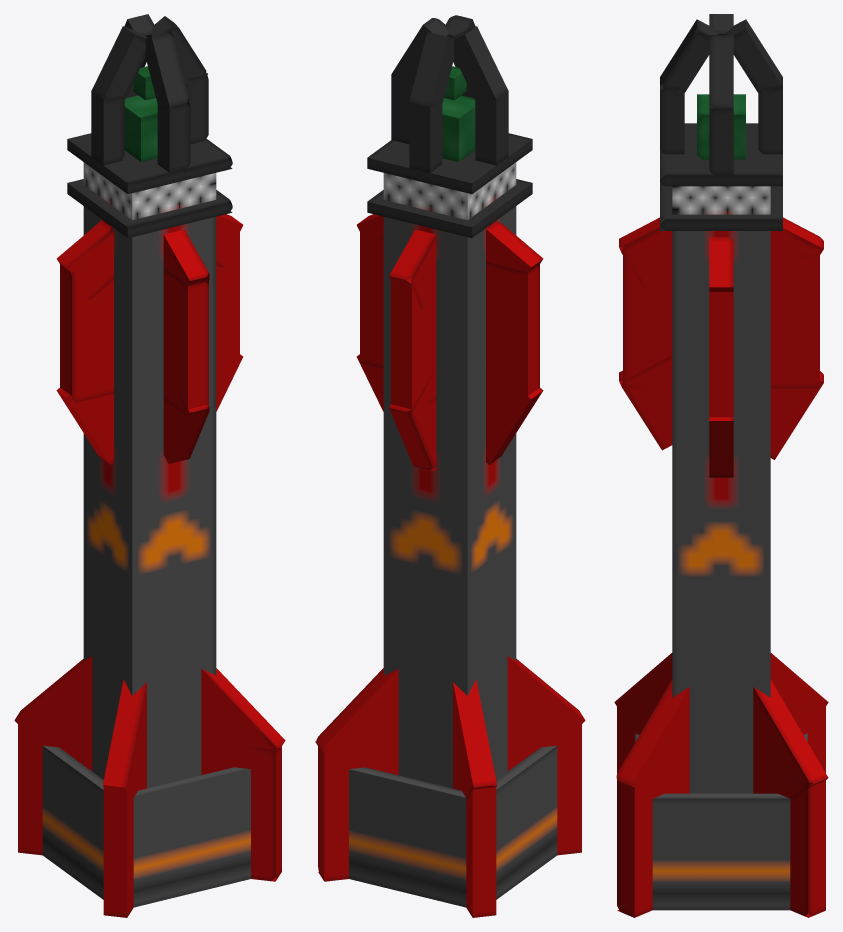
Rendered from missile_rejuvenation.obj.
The picture shows the model from 3 angles, left to right: view 1: azimuth 30°, elevation 25°; view 2: azimuth 150°, elevation 25°; view 3: azimuth 270°, elevation 25°; orthographic projection.
Parts seen in each view (by area): view 1: MAIN_MODULE, WING_B1, WING_BA1, WING_TBD2, WING_BA2, WING_B4, WING_TAC2, WING_BB1, T_SUPPORT_2, WING_BB2, T_SUPPORT_1, WING_TB3 (+12 smaller); view 2: MAIN_MODULE, WING_B2, WING_BB1, WING_TBD2, WING_BB2, WING_B4, WING_TAC2, T_SUPPORT_2, WING_BA1, WING_BA2, T_SUPPORT_1, WING_TB1 (+11 smaller); view 3: MAIN_MODULE, WING_B3, WING_TAC2, WING_BB1, WING_BA1, WING_BB2, WING_BA2, T_SUPPORT_2, WING_TBD2, WING_TA1, T_SUPPORT_1, WING_TC3 (+11 smaller).
Part boxes in pixels (bbox=[...]): MAIN_MODULE: bbox=[83, 162, 216, 788]; WING_B1: bbox=[133, 767, 250, 907]; WING_BA1: bbox=[18, 721, 281, 881]; WING_TBD2: bbox=[60, 232, 239, 402]; WING_BA2: bbox=[14, 656, 285, 774]; WING_B4: bbox=[42, 745, 103, 899]; WING_TAC2: bbox=[163, 268, 208, 416]; WING_BB1: bbox=[103, 756, 146, 917]; T_SUPPORT_2: bbox=[67, 133, 232, 194]; WING_BB2: bbox=[103, 679, 146, 800]; T_SUPPORT_1: bbox=[67, 179, 232, 237]; WING_TB3: bbox=[56, 220, 113, 300]; MAIN_MODULE: bbox=[383, 162, 516, 788]; WING_B2: bbox=[349, 767, 466, 907]; WING_BB1: bbox=[318, 721, 581, 881]; WING_TBD2: bbox=[360, 231, 539, 395]; WING_BB2: bbox=[315, 656, 585, 769]; WING_B4: bbox=[496, 745, 557, 899]; WING_TAC2: bbox=[391, 276, 436, 415]; T_SUPPORT_2: bbox=[367, 133, 532, 194]; WING_BA1: bbox=[466, 785, 496, 917]; WING_BA2: bbox=[453, 679, 496, 801]; T_SUPPORT_1: bbox=[367, 179, 532, 237]; WING_TB1: bbox=[486, 361, 543, 464]; MAIN_MODULE: bbox=[672, 186, 770, 793]; WING_B3: bbox=[652, 793, 790, 910]; WING_TAC2: bbox=[623, 246, 819, 388]; WING_BB1: bbox=[617, 703, 825, 917]; WING_BA1: bbox=[617, 703, 825, 917]; WING_BB2: bbox=[614, 653, 828, 802]; WING_BA2: bbox=[616, 653, 828, 794]; T_SUPPORT_2: bbox=[660, 123, 782, 186]; WING_TBD2: bbox=[709, 292, 733, 417]; WING_TA1: bbox=[619, 355, 672, 450]; T_SUPPORT_1: bbox=[660, 186, 782, 230]; WING_TC3: bbox=[770, 217, 823, 287].
Size of the model in its own units: 1.09 by 4.76 by 1.09.
